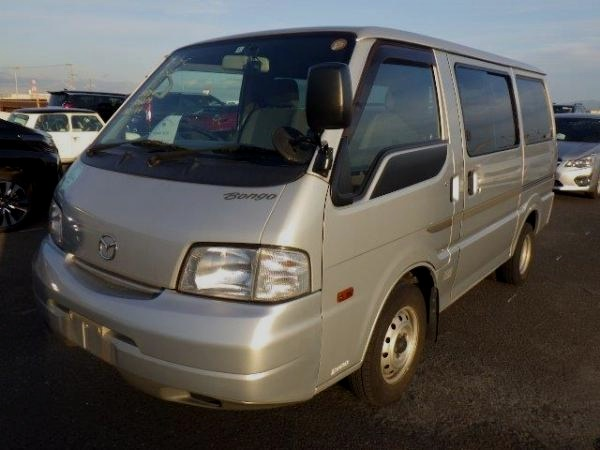van: (45, 19, 557, 396)
